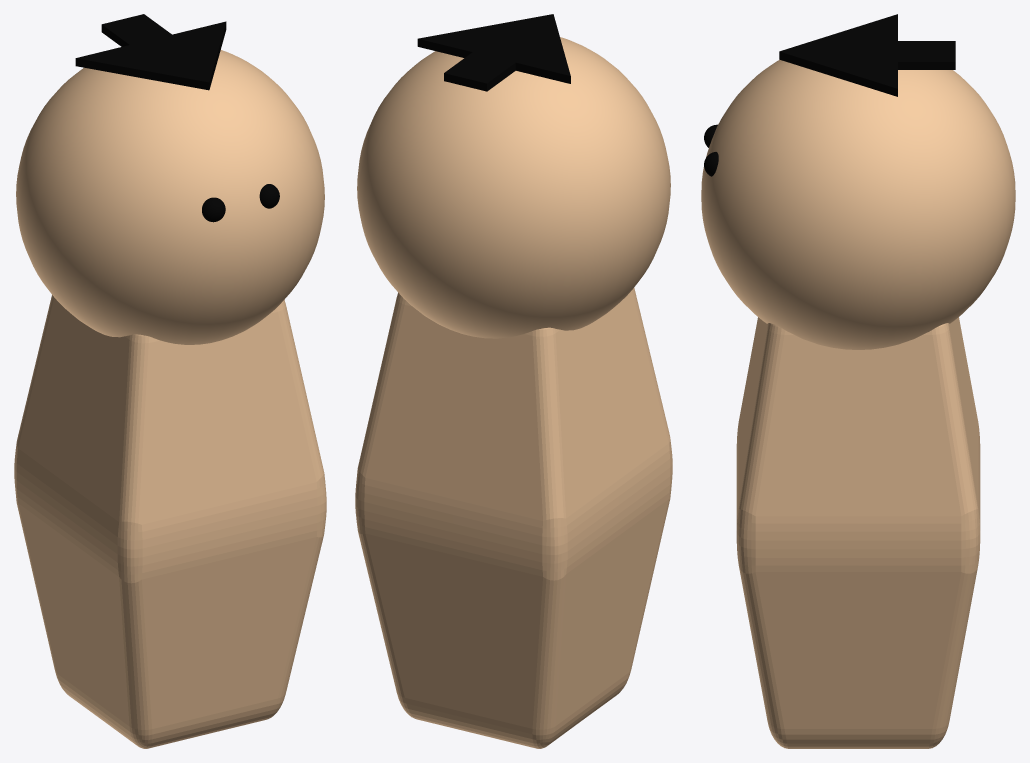
Rendered from 3newb.obj.
The picture shows the model from 3 angles, left to right: view 1: azimuth 30°, elevation 25°; view 2: azimuth 150°, elevation 25°; view 3: azimuth 270°, elevation 25°; orthographic projection.
Parts seen in each view (by area): view 1: Cube.006_Cube.001, Cube.006_Cube.002; view 2: Cube.006_Cube.001, Cube.006_Cube.002; view 3: Cube.006_Cube.001, Cube.006_Cube.002.
Boxes of the visible parts, x1,y1,x2,y2 form: Cube.006_Cube.001: [14, 50, 326, 748]; Cube.006_Cube.002: [75, 14, 279, 222]; Cube.006_Cube.001: [355, 37, 672, 748]; Cube.006_Cube.002: [417, 14, 570, 91]; Cube.006_Cube.001: [701, 59, 1015, 748]; Cube.006_Cube.002: [704, 14, 955, 176].
Bounding box in the file's own units: 0.2062 × 0.482 × 0.2057.
